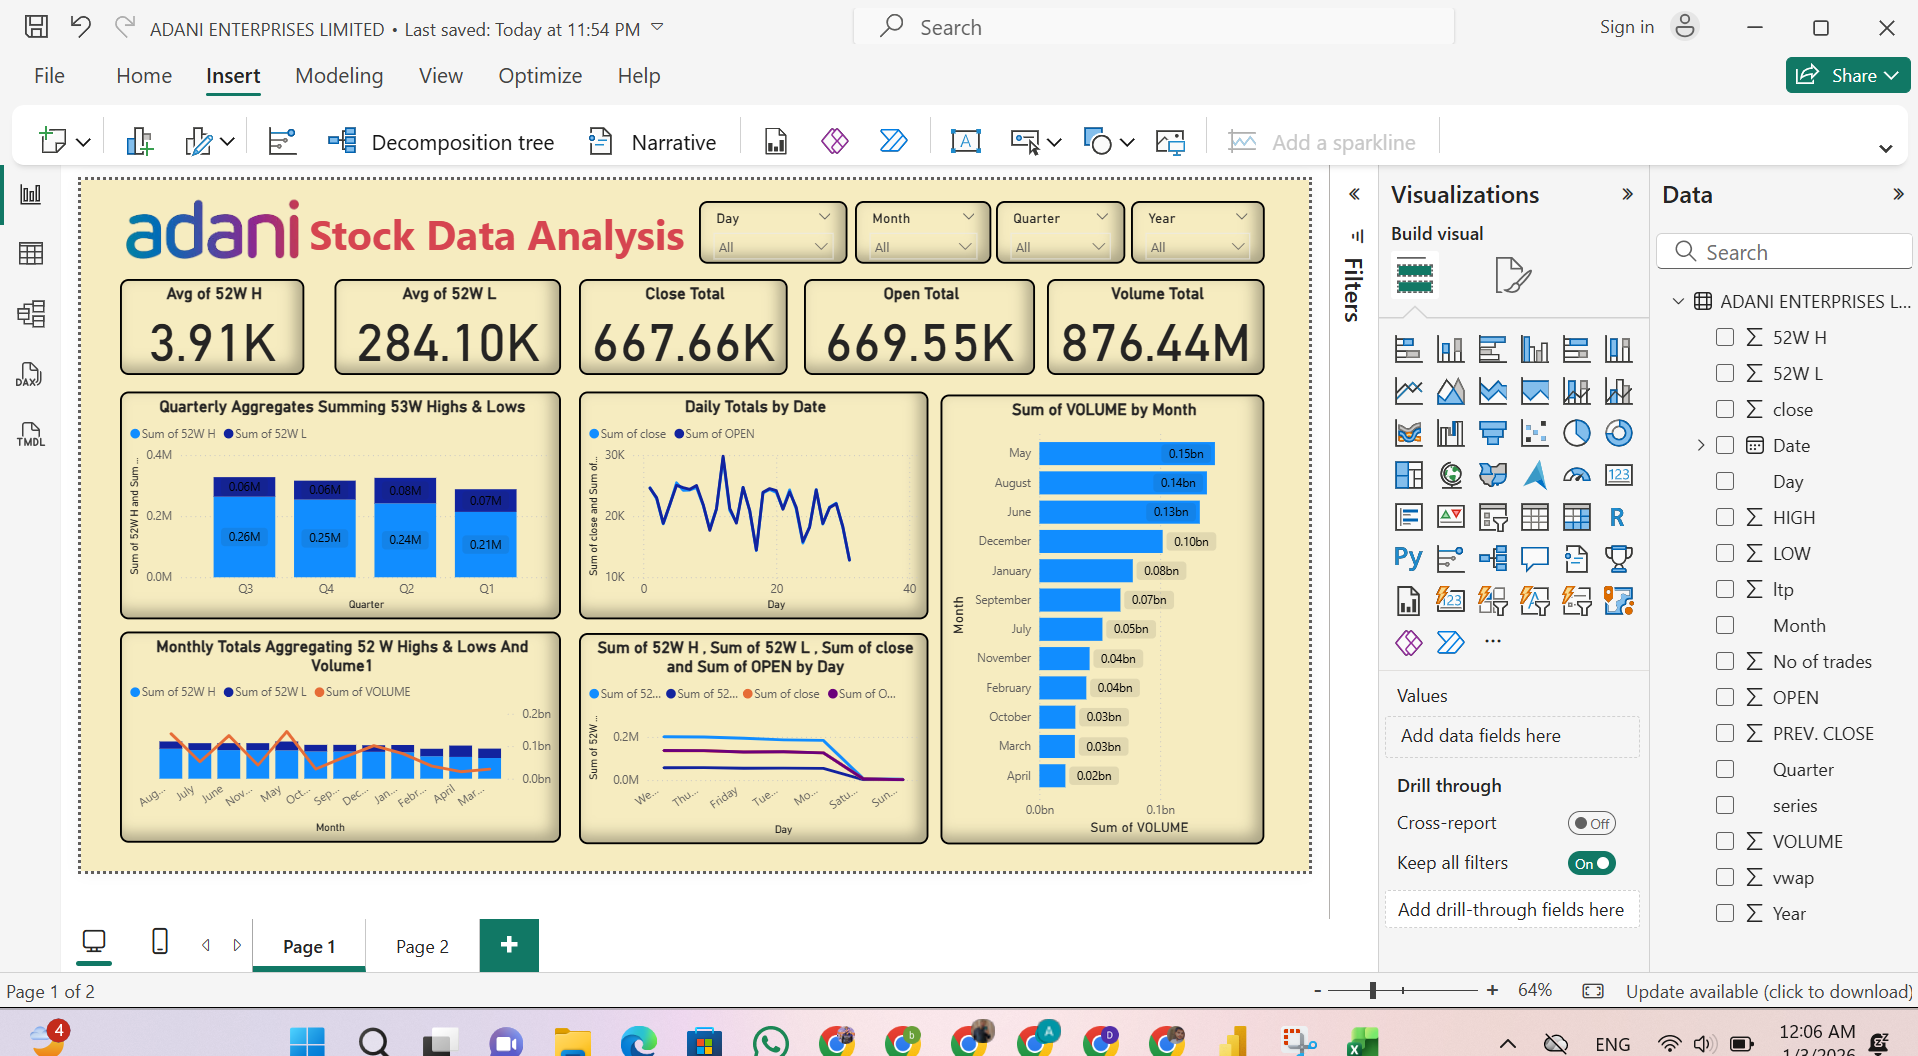

The page's visual inventory and layout, read from the dashboard file:
{"tool":"powerbi","page":{"name":"Page 1","canvas":[1280,720],"ordinal":0},"visuals":[{"type":"slicer","fields":{"Values":["ADANI ENTERPRISES LIMITED.Day"]},"box":[643.8,21.9,154.7,65.6],"z":0},{"type":"slicer","fields":{"Values":["ADANI ENTERPRISES LIMITED.Month"]},"box":[806.2,21.9,142.2,65.6],"z":1000},{"type":"slicer","fields":{"Values":["ADANI ENTERPRISES LIMITED.Quarter"]},"box":[953.1,21.9,134.4,65.6],"z":2000},{"type":"slicer","fields":{"Values":["ADANI ENTERPRISES LIMITED.Year"]},"box":[1093.8,21.9,139.1,65.6],"z":3000},{"type":"card","title":"Avg of 52W H","fields":{"Values":["Avg(ADANI ENTERPRISES LIMITED.52W H )"]},"box":[40.6,103.1,192.2,100],"z":4000},{"type":"card","title":"Avg of 52W L","fields":{"Values":["Sum(ADANI ENTERPRISES LIMITED.52W L )"]},"box":[264.1,103.1,235.9,100],"z":5000},{"type":"card","title":"Close Total","fields":{"Values":["Sum(ADANI ENTERPRISES LIMITED.close )"]},"box":[518.8,102.4,217.2,100],"z":6000},{"type":"card","title":"Open Total","fields":{"Values":["Sum(ADANI ENTERPRISES LIMITED.OPEN )"]},"box":[753.1,103.1,240.6,100],"z":7000},{"type":"card","title":"Volume Total","fields":{"Values":["Sum(ADANI ENTERPRISES LIMITED.VOLUME )"]},"box":[1006.2,102.4,226.6,100],"z":8000},{"type":"columnChart","title":"Quarterly Aggregates Summing 53W Highs & Lows","fields":{"Y":["Sum(ADANI ENTERPRISES LIMITED.52W H )","Sum(ADANI ENTERPRISES LIMITED.52W L )"],"Category":["ADANI ENTERPRISES LIMITED.Quarter"]},"box":[40.6,220.3,459.4,237.5],"z":9000},{"type":"lineStackedColumnComboChart","title":"Monthly Totals Aggregating 52 W Highs & Lows And Volume1","fields":{"Y":["Sum(ADANI ENTERPRISES LIMITED.52W H )","Sum(ADANI ENTERPRISES LIMITED.52W L )"],"Category":["ADANI ENTERPRISES LIMITED.Month"],"Y2":["Sum(ADANI ENTERPRISES LIMITED.VOLUME )"]},"box":[40.6,470.3,459.4,220.3],"z":10000},{"type":"lineChart","title":"Daily Totals by Date","fields":{"Category":["ADANI ENTERPRISES LIMITED.Date .Variation.Date Hierarchy.Day"],"Y":["Sum(ADANI ENTERPRISES LIMITED.close )","Sum(ADANI ENTERPRISES LIMITED.OPEN )"]},"box":[518.8,220.3,364.1,237.5],"z":11000},{"type":"lineChart","fields":{"Y":["Sum(ADANI ENTERPRISES LIMITED.52W H )","Sum(ADANI ENTERPRISES LIMITED.52W L )","Sum(ADANI ENTERPRISES LIMITED.close )","Sum(ADANI ENTERPRISES LIMITED.OPEN )"],"Category":["ADANI ENTERPRISES LIMITED.Day"]},"box":[518.8,471.9,364.1,220.3],"z":12000},{"type":"clusteredBarChart","fields":{"Category":["ADANI ENTERPRISES LIMITED.Month"],"Y":["Sum(ADANI ENTERPRISES LIMITED.VOLUME )"]},"box":[895.3,223.4,337.5,468.8],"z":13000},{"type":"image","box":[40.6,0,192.2,103.1],"z":15001},{"type":"textbox","box":[232.8,21.9,410.9,101.6],"z":15002}]}

Visuals, with their boxes on the page's 1280x720 design canvas (x1, y1, x2, y2). These are canvas units, not pixel positions in the 1918x1056 screenshot, which may show the page scaled, cropped or inside an application window:
slicer - ADANI ENTERPRISES LIMITED.Day: crop(644, 22, 798, 88)
slicer - ADANI ENTERPRISES LIMITED.Month: crop(806, 22, 948, 88)
slicer - ADANI ENTERPRISES LIMITED.Quarter: crop(953, 22, 1088, 88)
slicer - ADANI ENTERPRISES LIMITED.Year: crop(1094, 22, 1233, 88)
"Avg of 52W H" card: crop(41, 103, 233, 203)
"Avg of 52W L" card: crop(264, 103, 500, 203)
"Close Total" card: crop(519, 102, 736, 202)
"Open Total" card: crop(753, 103, 994, 203)
"Volume Total" card: crop(1006, 102, 1233, 202)
"Quarterly Aggregates Summing 53W Highs & Lows" columnChart: crop(41, 220, 500, 458)
"Monthly Totals Aggregating 52 W Highs & Lows And Volume1" lineStackedColumnComboChart: crop(41, 470, 500, 691)
"Daily Totals by Date" lineChart: crop(519, 220, 883, 458)
lineChart - Sum(ADANI ENTERPRISES LIMITED.52W H ) x Sum(ADANI ENTERPRISES LIMITED.52W L ): crop(519, 472, 883, 692)
clusteredBarChart - ADANI ENTERPRISES LIMITED.Month x Sum(ADANI ENTERPRISES LIMITED.VOLUME ): crop(895, 223, 1233, 692)
image: crop(41, 0, 233, 103)
textbox: crop(233, 22, 644, 124)
